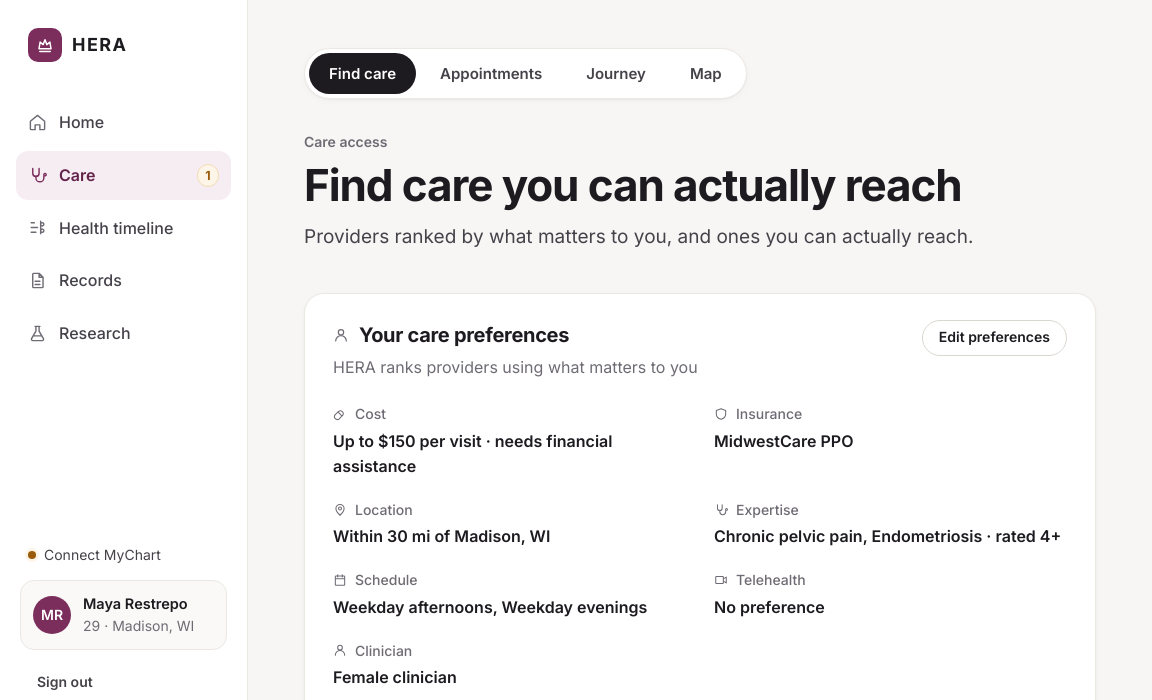
Test: Care preferences › edits and saves preferences
Click the button "Edit preferences".
click(994, 338)  # box [922,320,1067,356]
(page scrolled)
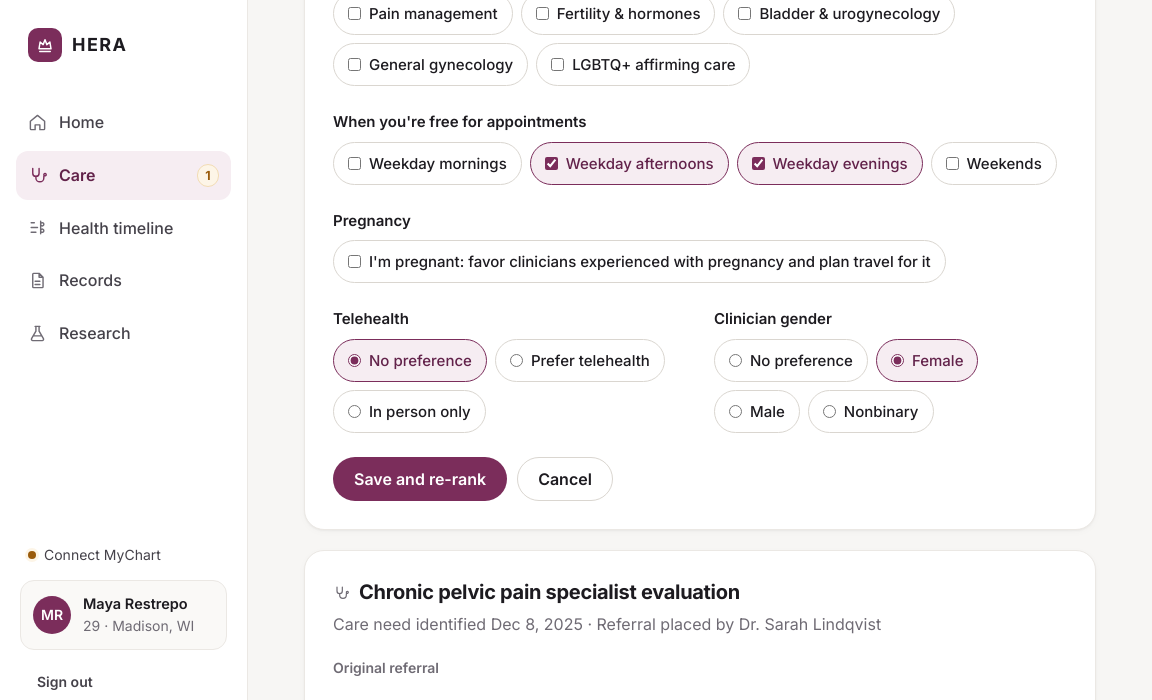
Click the radio button labelled "Prefer telehealth".
click(516, 360)  # box [510,354,523,367]
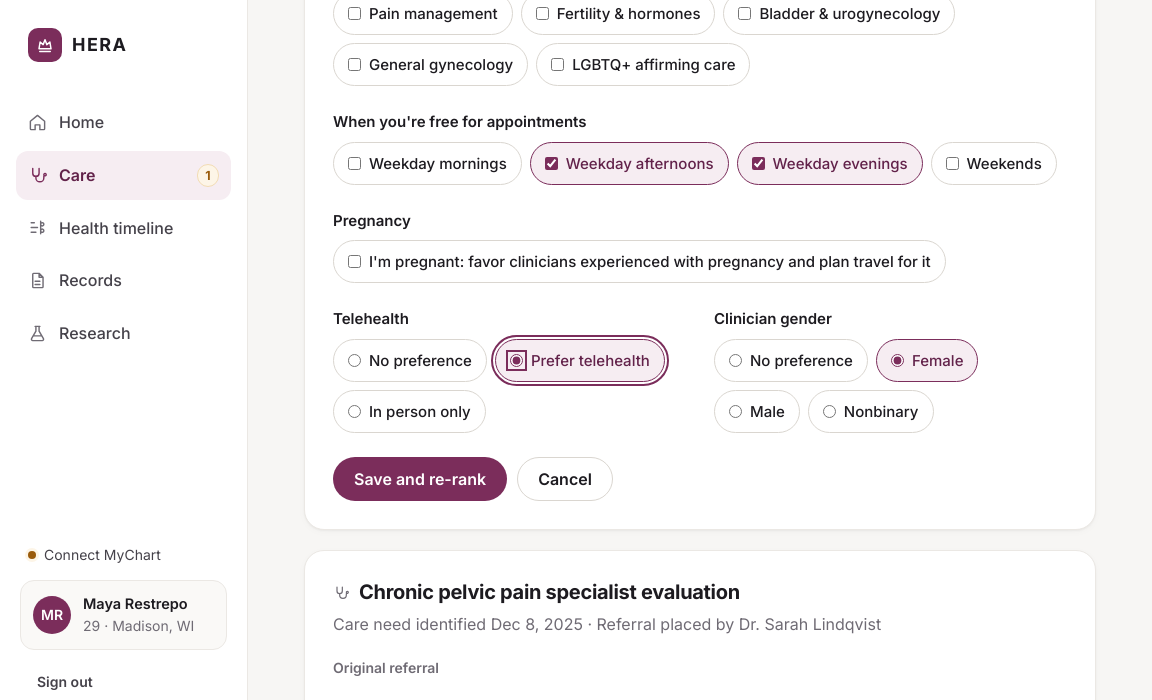
Click the radio button labelled "No preference" in the row of "Female".
click(736, 360)  # box [729,354,742,367]
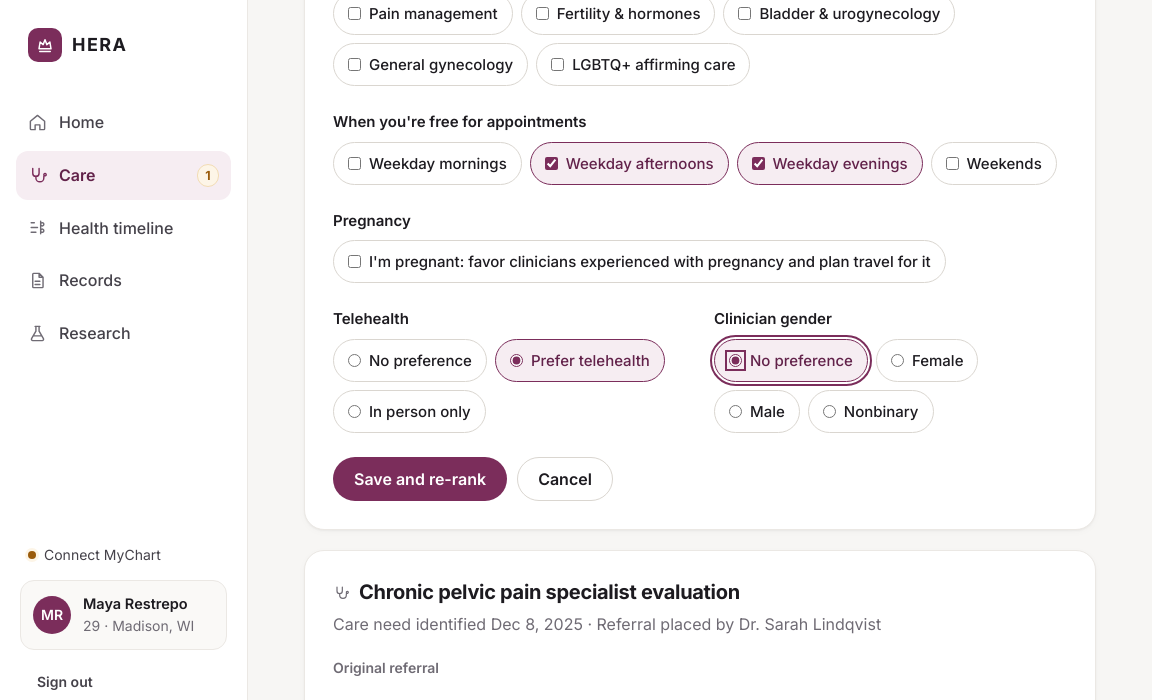
Click the checkbox labelled "Weekends".
click(952, 163)  # box [946,157,959,170]
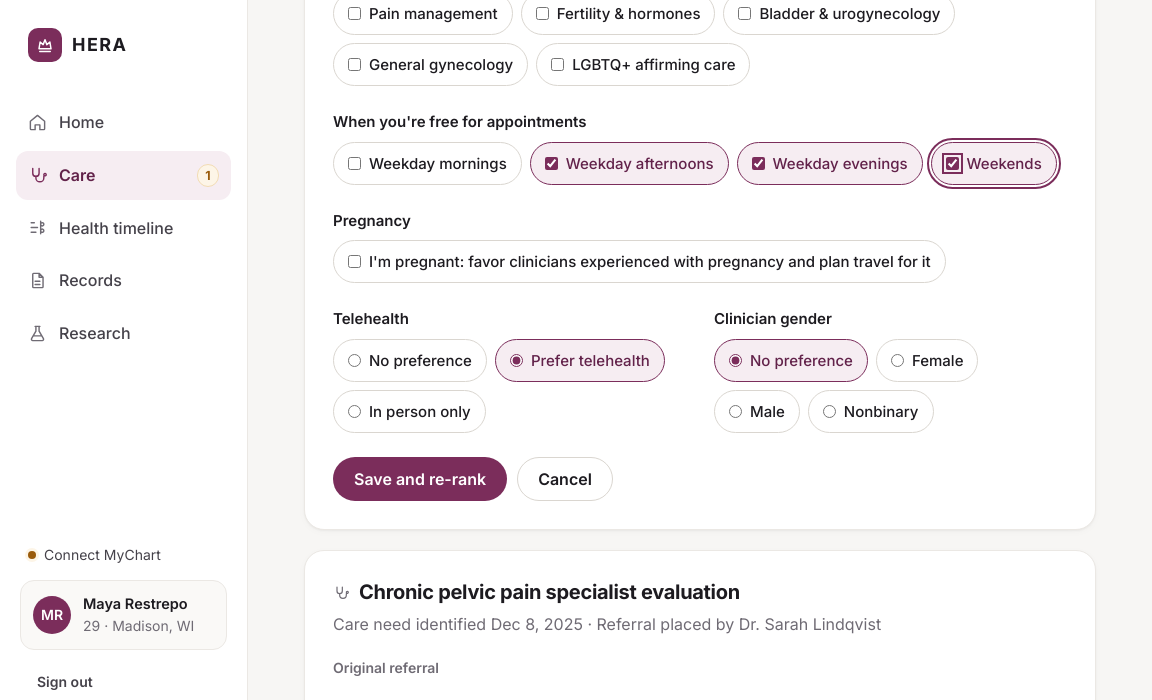
Click the button "Save and re-rank".
click(420, 479)  # box [333,457,507,501]
(page scrolled)
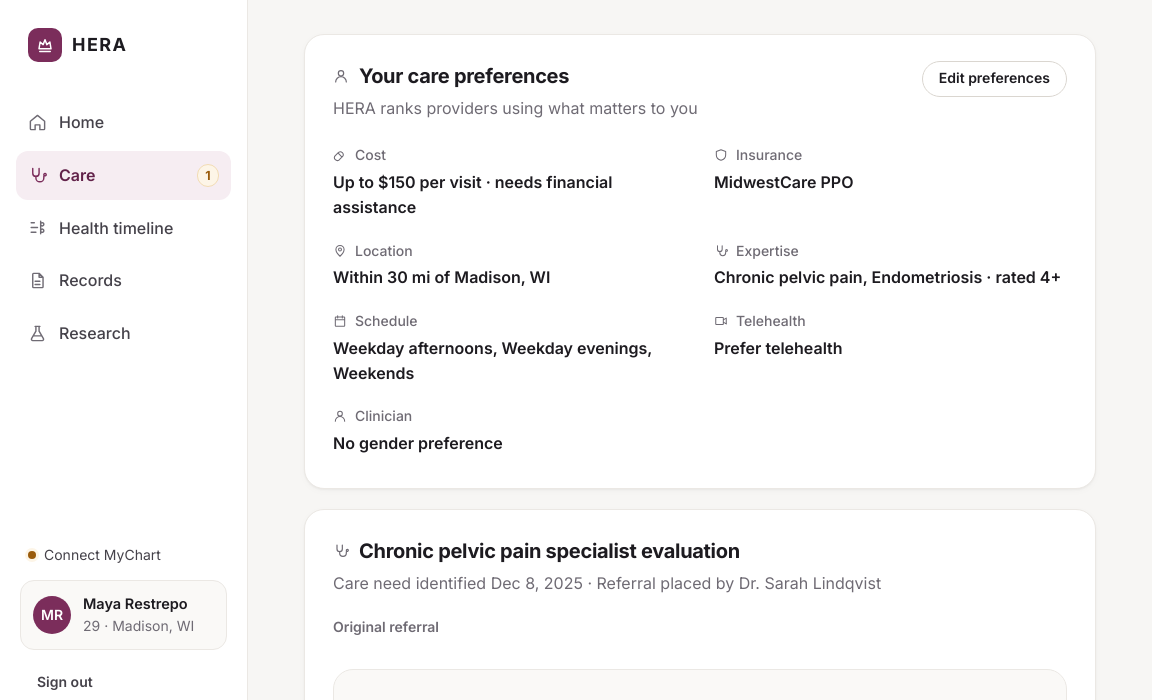
Now the text "Prefer telehealth" is shown, box [714,338,843,358]
Now the text "No gender preference" is shown, box [333,433,503,453]
Now the text "Weekday afternoons, Weekday evenings, Weekends" is shown, box [333,336,686,385]
